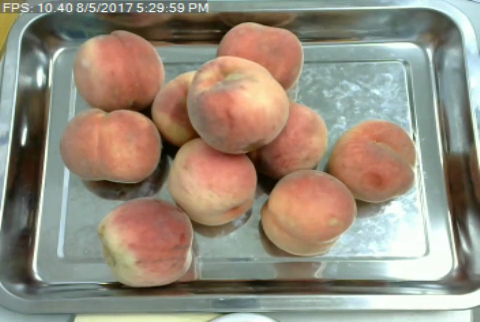Peach: (187, 56, 288, 152), (97, 198, 194, 285), (259, 170, 357, 255), (327, 116, 420, 205), (167, 139, 258, 226), (58, 107, 160, 182), (73, 28, 163, 113), (250, 98, 329, 177), (218, 22, 302, 94)
